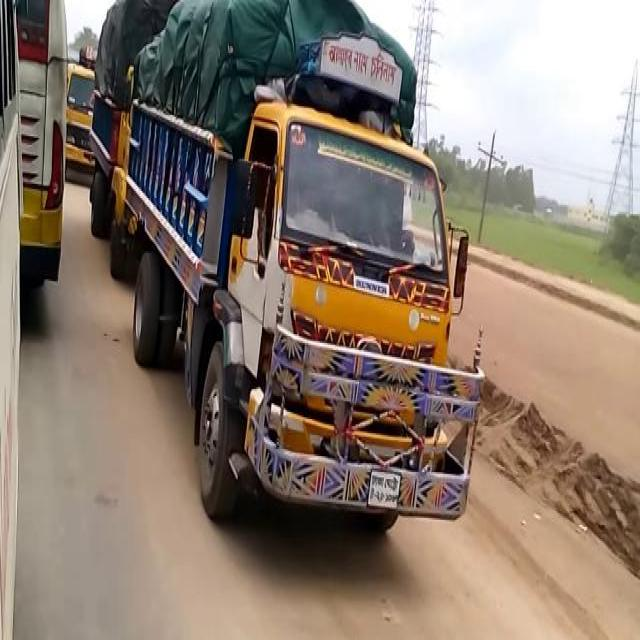bus: (16, 0, 64, 288)
truck: (124, 8, 488, 533), (88, 6, 162, 268), (66, 42, 94, 186)
